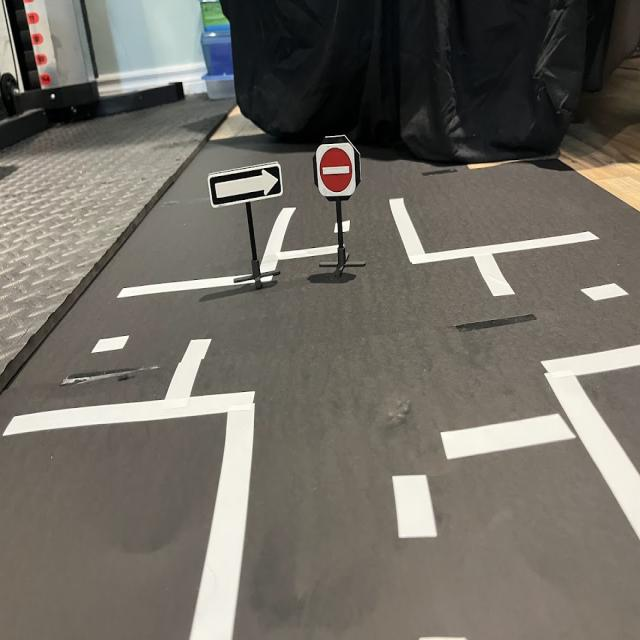sign_noentry: (314, 139, 360, 203)
sign_oneway_right: (209, 158, 287, 214)
